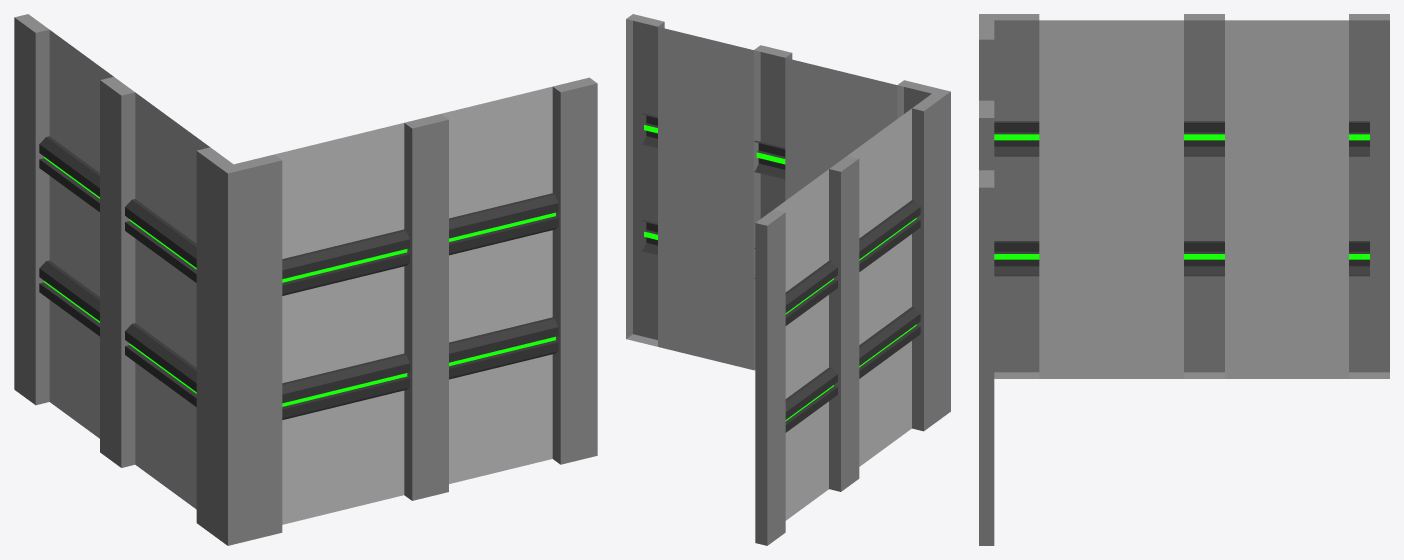
The model's file is Wall_24_B_Corner.FBX.
3 views of the same model, side by side, from view 1: azimuth 30°, elevation 25°; view 2: azimuth 150°, elevation 25°; view 3: azimuth 270°, elevation 25° (orthographic). The views are drawn at different scales.
Parts seen in each view (by area): view 1: Wall_24_B_Corner_LOD0; view 2: Wall_24_B_Corner_LOD0; view 3: Wall_24_B_Corner_LOD0.
Part boxes in pixels (box(x1,y1,x2,y2)): Wall_24_B_Corner_LOD0: box(14, 14, 597, 545); Wall_24_B_Corner_LOD0: box(626, 14, 950, 545); Wall_24_B_Corner_LOD0: box(979, 14, 1389, 545).
Size of what is drawn, in the model's own units: 187 by 180 by 187.
